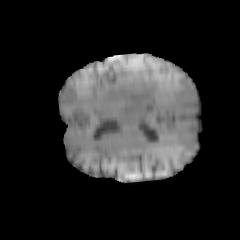glioma: (101, 63, 161, 113)
